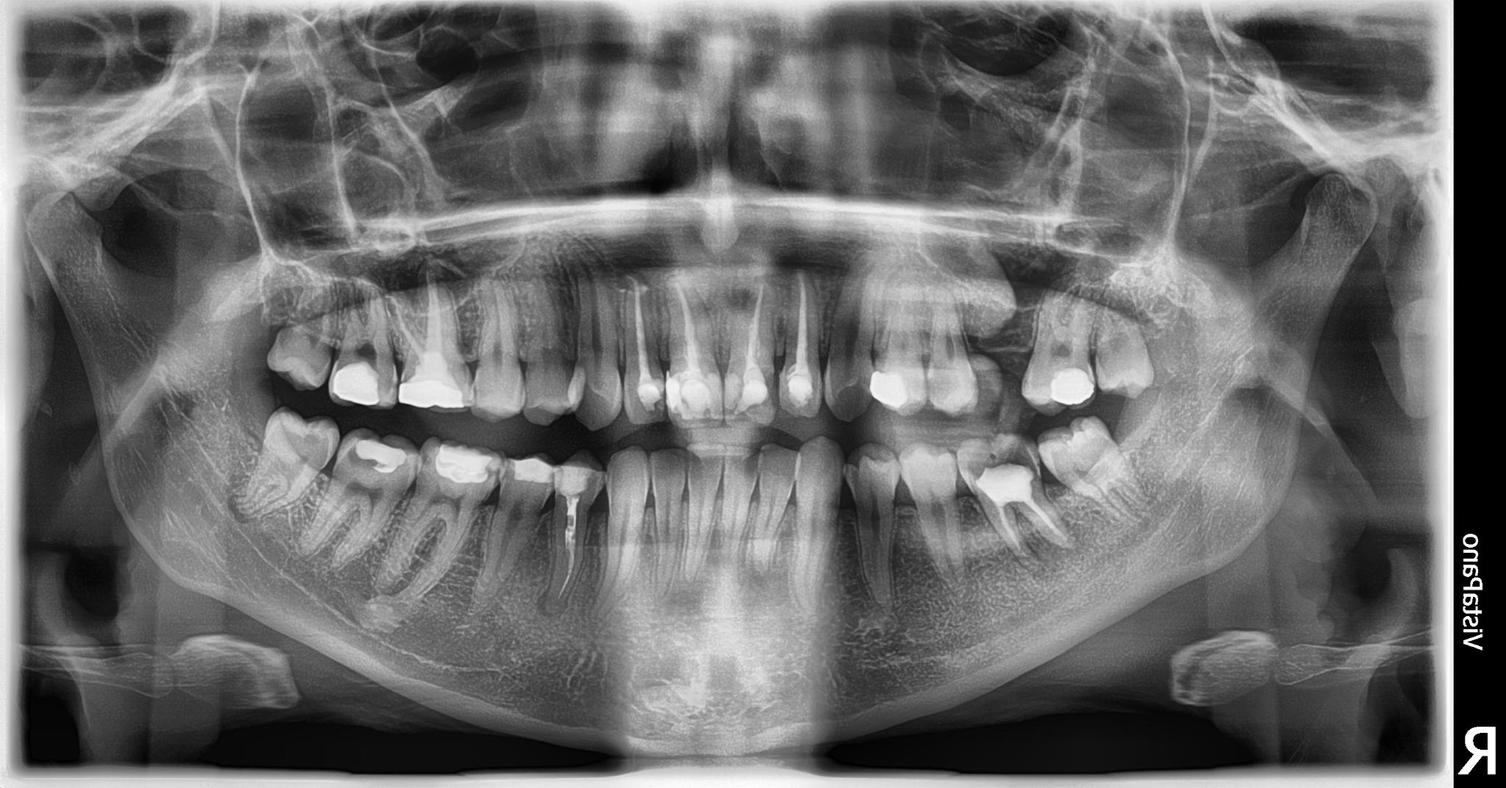Premolars: (527, 258, 1506, 688), (590, 223, 1506, 534), (315, 237, 898, 675), (293, 230, 718, 655), (221, 223, 621, 646), (206, 204, 596, 512)
